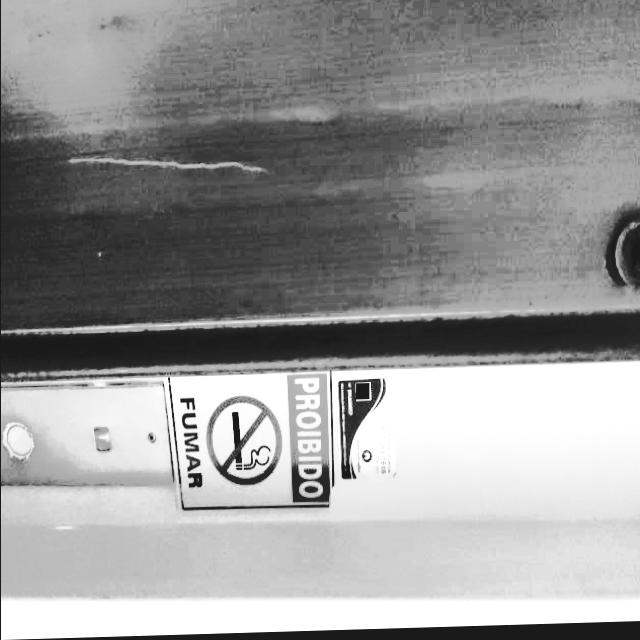qr_code: (356, 385, 368, 402)
